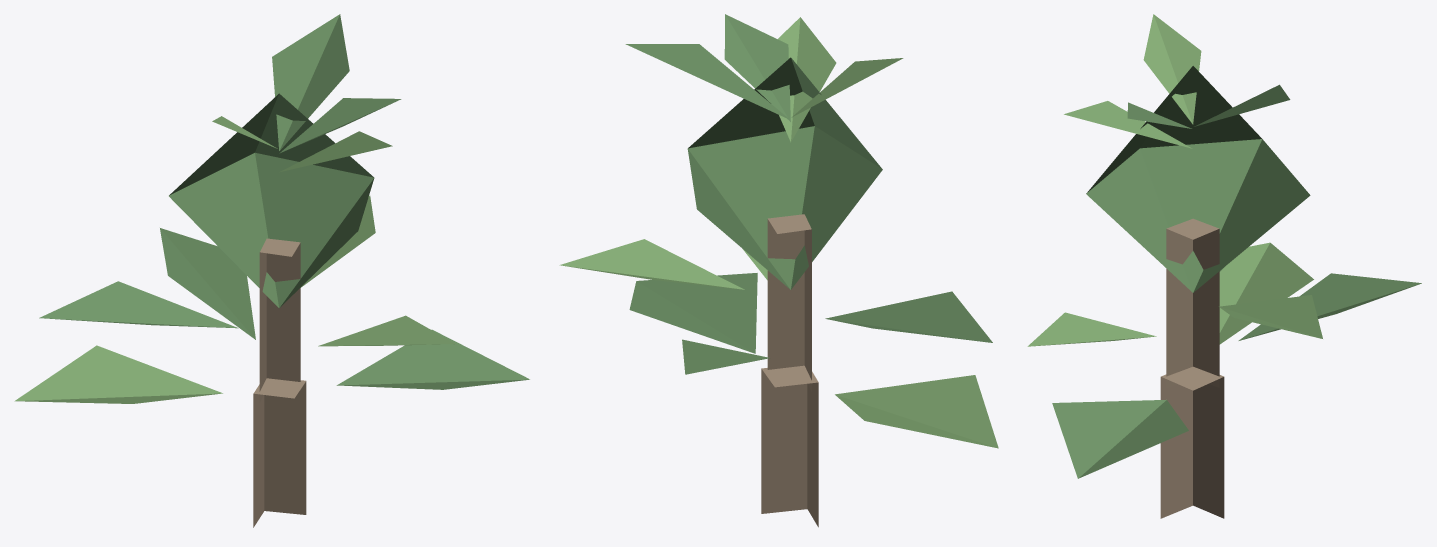
File: shu.mumian@seedling__bloom.glb
The picture shows the model from 3 angles, left to right: view 1: azimuth 30°, elevation 25°; view 2: azimuth 150°, elevation 25°; view 3: azimuth 270°, elevation 25°; orthographic projection. The views are drawn at different scales.
Parts seen in each view (by area): view 1: shu.mumian@seedling__bloom; view 2: shu.mumian@seedling__bloom; view 3: shu.mumian@seedling__bloom.
Boxes of the visible parts, bbox=[...] form: shu.mumian@seedling__bloom: bbox=[14, 14, 529, 527]; shu.mumian@seedling__bloom: bbox=[559, 14, 998, 527]; shu.mumian@seedling__bloom: bbox=[1027, 14, 1421, 518].
Bounding box in the file's own units: 2.48 × 2.5 × 1.89.
